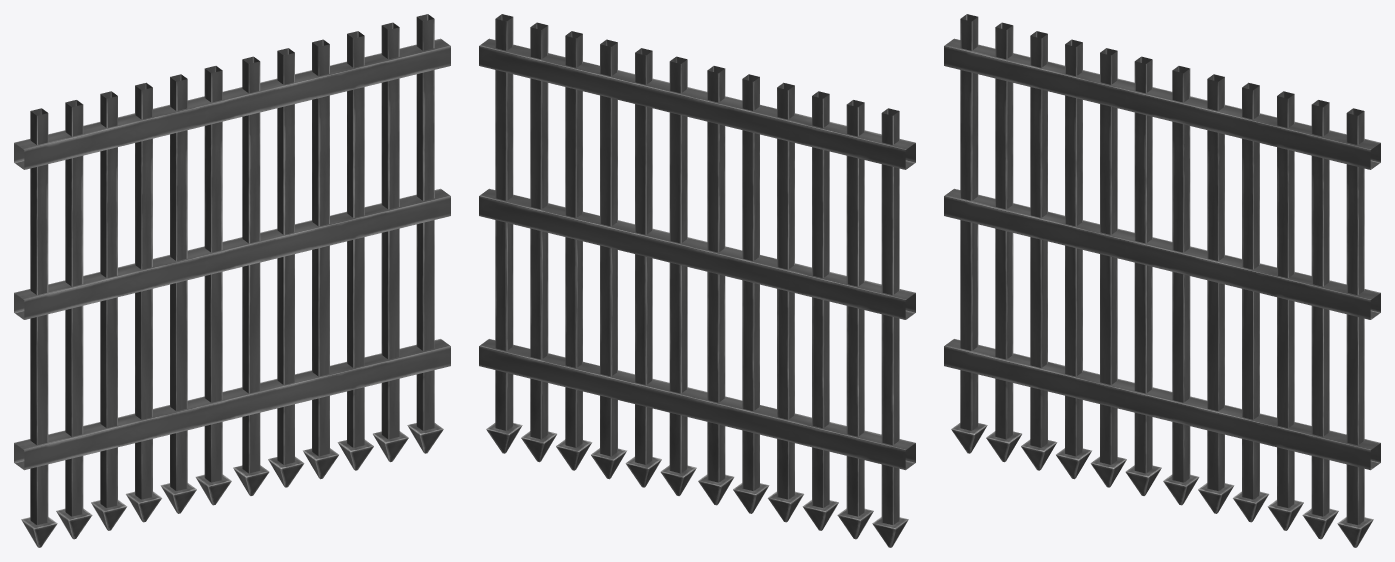
Rendered from DoorSpikes.fbx.
3 renders of one model, left to right at view 1: azimuth 30°, elevation 25°; view 2: azimuth 150°, elevation 25°; view 3: azimuth 330°, elevation 25°, orthographic.
Visible parts, largest first — view 1: Cube; view 2: Cube; view 3: Cube.
Boxes of the visible parts, left/top/right/bottom form: Cube: left=14, top=14, right=450, bottom=547; Cube: left=479, top=14, right=915, bottom=547; Cube: left=944, top=14, right=1380, bottom=547.
Bounding box in the file's own units: 6.81 × 6.64 × 0.3708.
